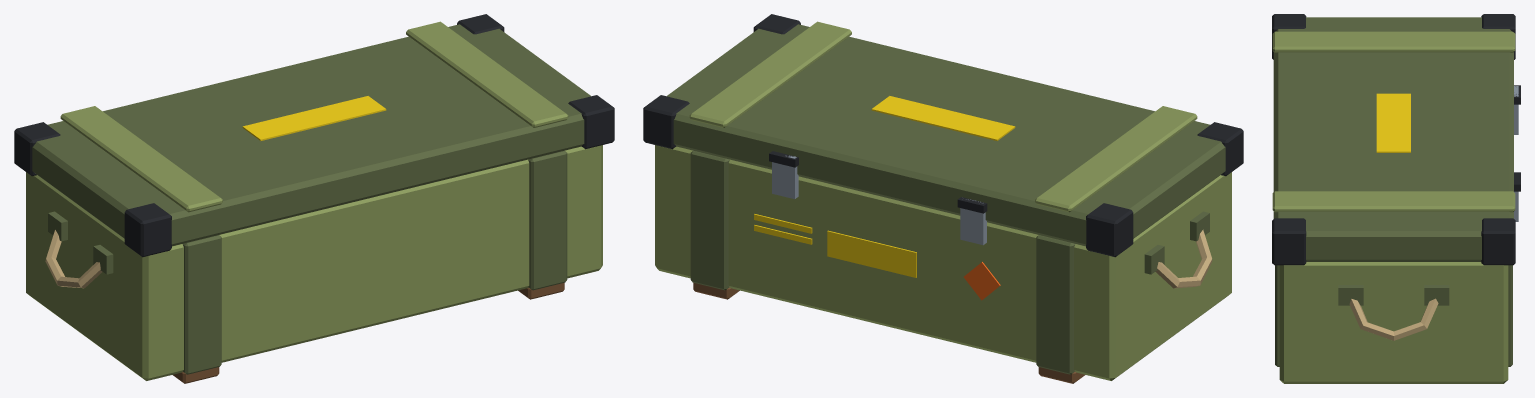
Rendered from weapon_crate.glb.
The picture shows the model from 3 angles, left to right: view 1: azimuth 30°, elevation 25°; view 2: azimuth 150°, elevation 25°; view 3: azimuth 270°, elevation 25°; orthographic projection. The views are drawn at different scales.
Visible parts, largest first — view 1: Body; view 2: Body; view 3: Body.
Boxes of the visible parts, <box> form: Body: <box>14,14,614,383</box>; Body: <box>643,14,1243,383</box>; Body: <box>1272,14,1520,383</box>.
Bounding box in the file's own units: 0.9832 × 0.33 × 0.435.
